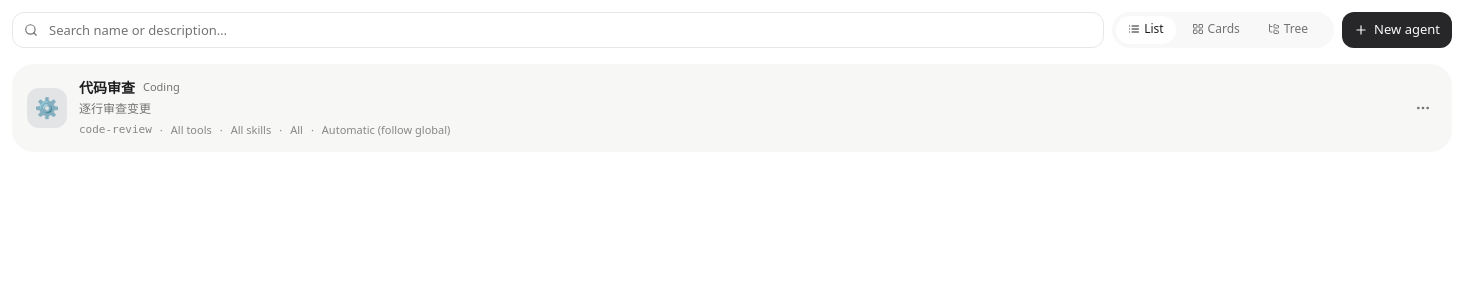
agents 编辑提示词 › custom 档案保留删除入口
Expected: the text "代码审查" is shown, [79, 77, 135, 98]
Click the button named "More actions": {"x": 1423, "y": 108} [1409, 94, 1437, 122]
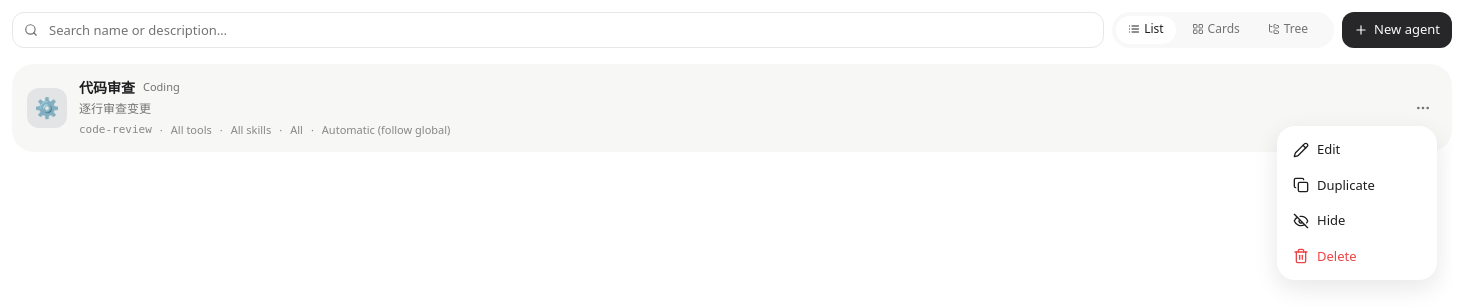
Result: the menu item "Delete" is shown at [1293, 246, 1356, 264]
